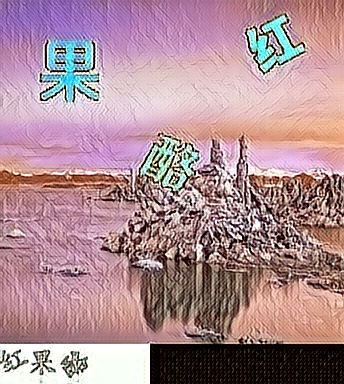B9FB: (41, 40, 101, 104)
BAEC: (243, 12, 303, 76)
C0D2: (138, 132, 198, 196)
